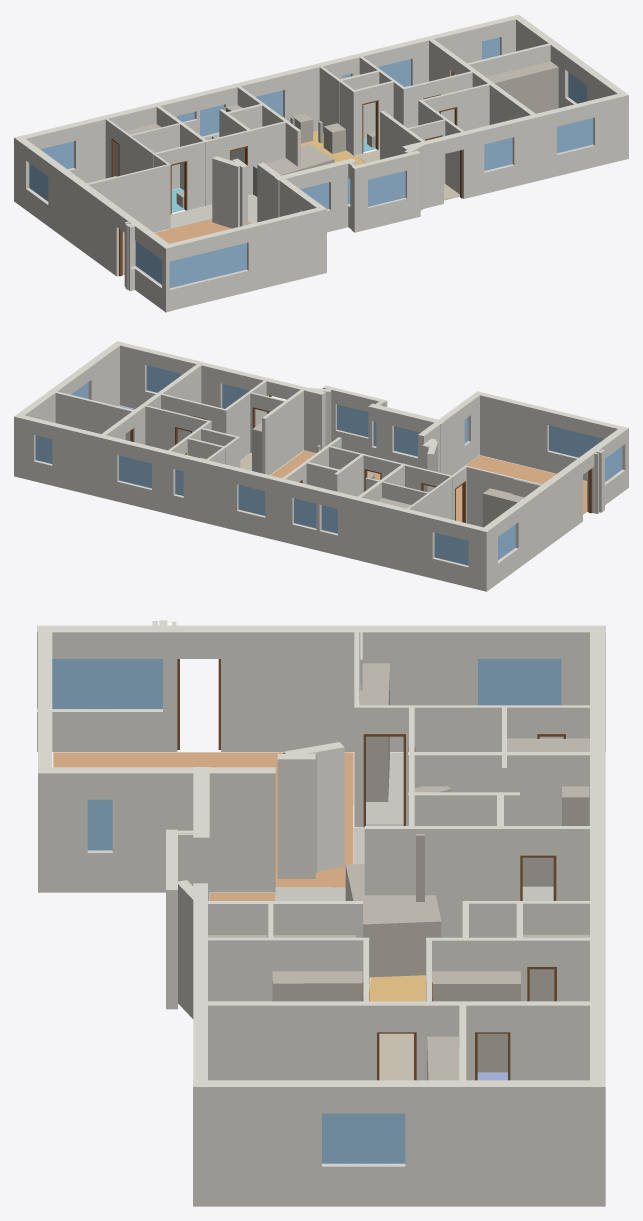
The picture shows the model from 3 angles, top to bottom: view 1: azimuth 30°, elevation 25°; view 2: azimuth 150°, elevation 25°; view 3: azimuth 270°, elevation 25°; orthographic projection. The views are drawn at different scales.
Visible parts, largest first — view 1: walls, furniture_7_closet, window_14, furniture_28_fireplace, window_15, window_3, floor_8_Living_Room, floor_7_Undefined, window_2, window_20, furniture_17_appliance, window_7 (+7 smaller); view 2: walls, floor_8_Living_Room, window_14, furniture_9_closet, window_0, window_12, window_15, window_8, window_3, window_4, window_7, floor_6_Living_Room (+6 smaller); view 3: walls, furniture_28_fireplace, floor_8_Living_Room, window_20, window_5, furniture_6_closet, window_1, furniture_10_closet, furniture_9_closet, floor_4_Entry, floor_0_Undefined, floor_3_Kitchen (+7 smaller).
Part boxes in pixels (<box>): walls: <box>14,14,628,312</box>; furniture_7_closet: <box>486,61,558,113</box>; window_14: <box>169,243,246,288</box>; furniture_28_fireplace: <box>253,144,334,196</box>; window_15: <box>368,171,405,206</box>; window_3: <box>557,118,593,153</box>; floor_8_Living_Room: <box>124,219,251,274</box>; floor_7_Undefined: <box>170,194,257,228</box>; window_2: <box>484,137,512,170</box>; window_20: <box>135,241,161,284</box>; furniture_17_appliance: <box>323,123,345,153</box>; window_7: <box>200,104,223,136</box>; walls: <box>14,341,628,591</box>; floor_8_Living_Room: <box>456,455,586,521</box>; window_14: <box>549,425,603,457</box>; furniture_9_closet: <box>482,488,524,527</box>; window_0: <box>434,532,468,565</box>; window_12: <box>119,455,151,488</box>; window_15: <box>337,404,368,436</box>; window_8: <box>238,485,265,515</box>; window_3: <box>146,365,180,392</box>; window_4: <box>394,426,420,456</box>; window_7: <box>294,498,316,528</box>; floor_6_Living_Room: <box>270,450,380,480</box>; walls: <box>37,620,605,1206</box>; furniture_28_fireplace: <box>345,864,441,977</box>; floor_8_Living_Room: <box>53,752,353,887</box>; window_20: <box>52,659,162,708</box>; window_5: <box>322,1113,405,1163</box>; furniture_6_closet: <box>432,971,520,1072</box>; window_1: <box>478,659,561,705</box>; furniture_10_closet: <box>272,971,362,1001</box>; furniture_9_closet: <box>359,663,389,801</box>; floor_4_Entry: <box>379,1033,413,1080</box>; floor_0_Undefined: <box>366,752,403,825</box>; floor_3_Kitchen: <box>369,975,425,1001</box>.
Size of the model in its own units: 22.61 by 2.72 by 11.65.
